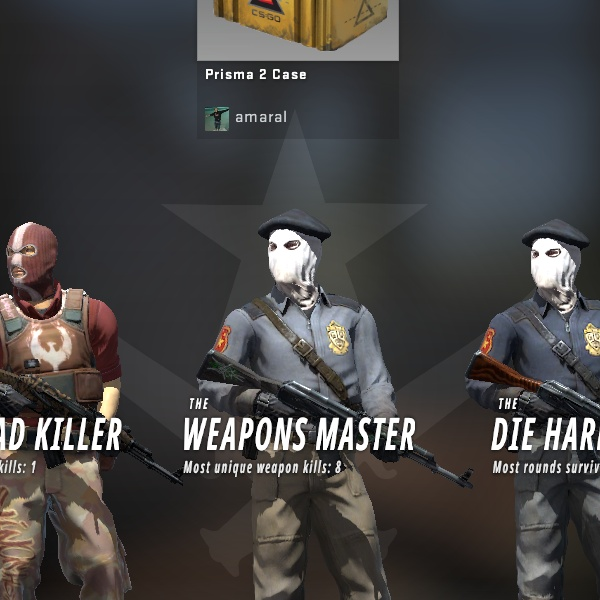t_body: (0, 194, 160, 600)
t_head: (0, 209, 86, 316)
